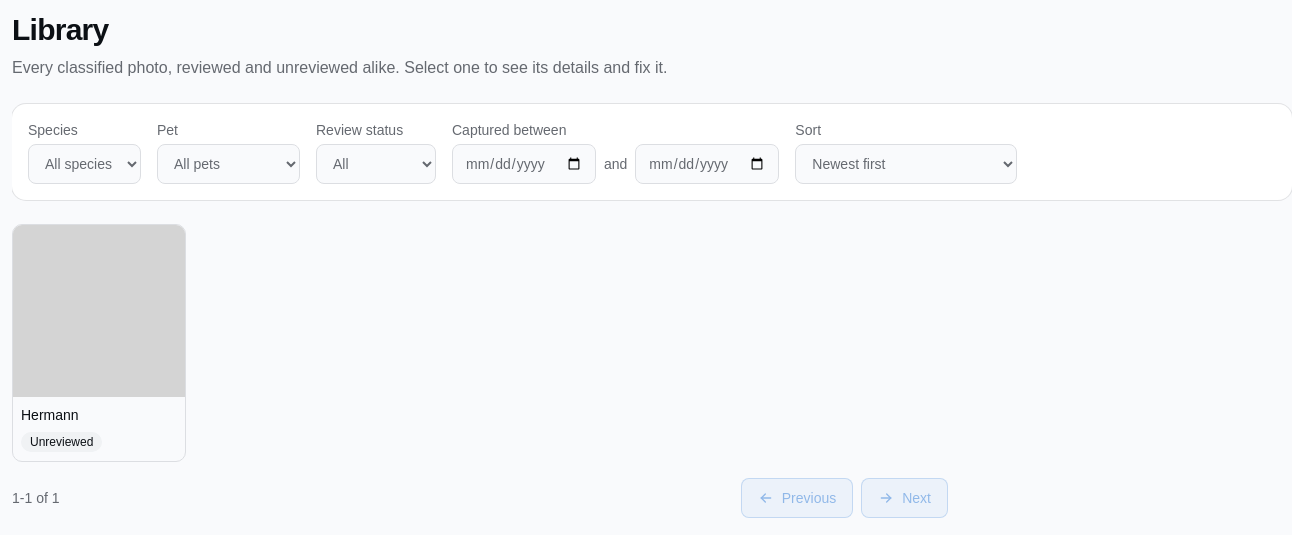
it: LibraryPage › shows the account name in the details panel when more than one account is configured
Click the button with aria-label "View details for Hermann". click: (99, 343)
box: [12, 224, 186, 462]
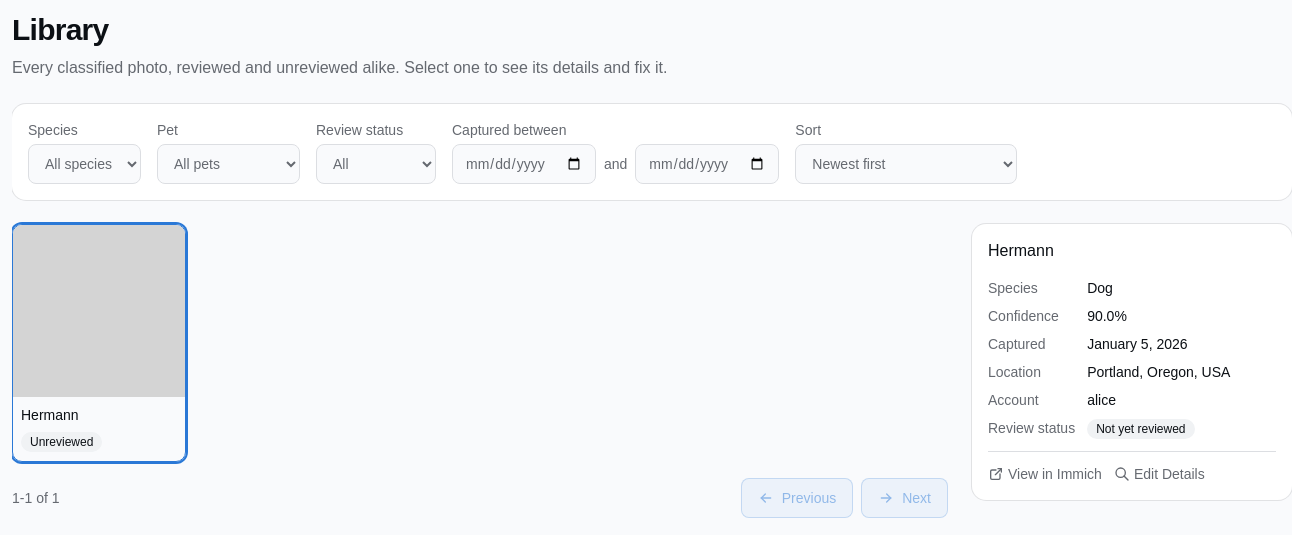
Expected: the text "Account" is shown, [988, 392, 1039, 408]
Expected: the text "alice" is shown, [1087, 392, 1116, 408]
